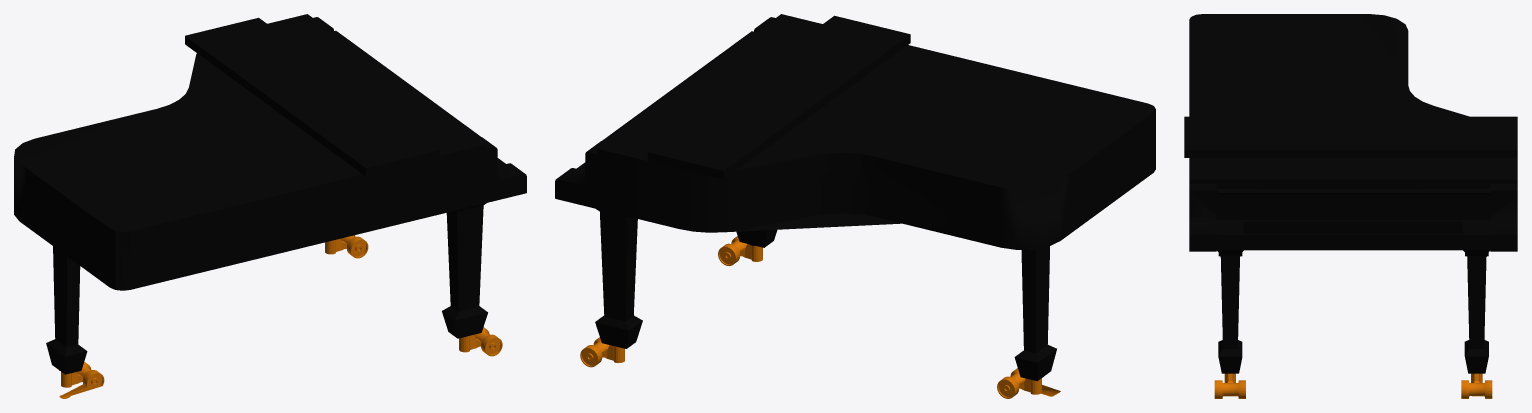
File: PianoNew.fbx
3 renders of one model, left to right at view 1: azimuth 30°, elevation 25°; view 2: azimuth 150°, elevation 25°; view 3: azimuth 270°, elevation 25°, orthographic. The views are drawn at different scales.
Parts seen in each view (by area): view 1: pCube7; view 2: pCube7; view 3: pCube7.
Part boxes in pixels (x1,y1,x2,y2): pCube7: (14,14,526,398); pCube7: (555,14,1155,398); pCube7: (1184,14,1517,398).
Bounding box in the file's own units: 16.78 × 9.23 × 12.86.
